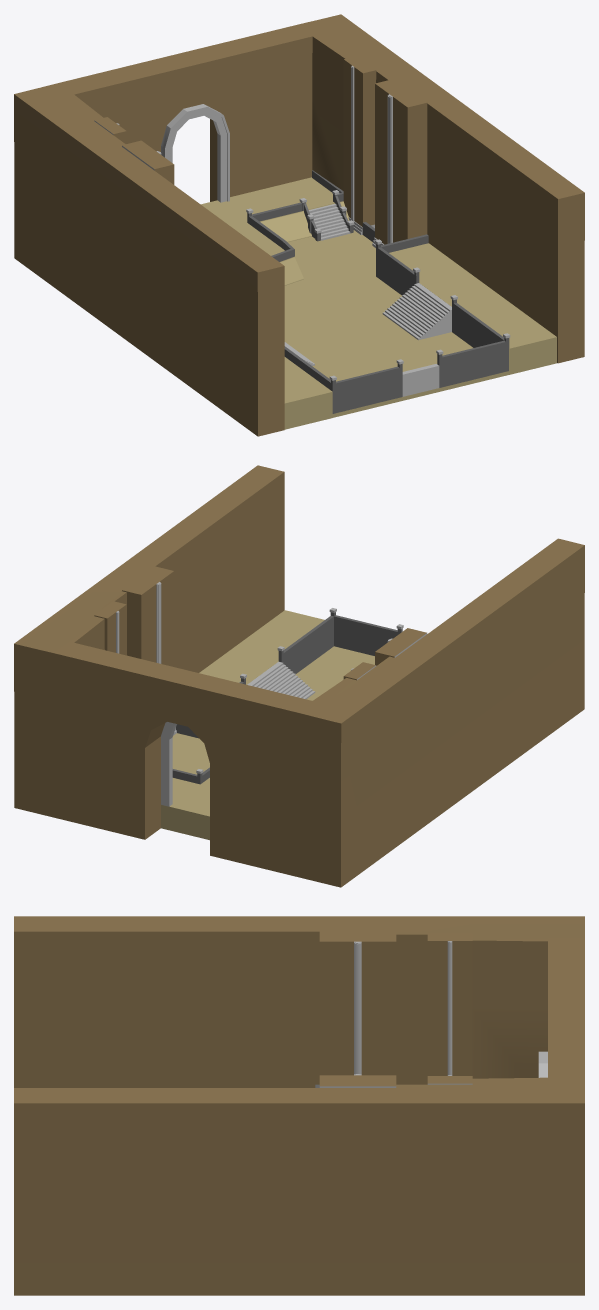
Rendered from arene.fbx.
3 views of the same model, one above another, from view 1: azimuth 30°, elevation 25°; view 2: azimuth 150°, elevation 25°; view 3: azimuth 270°, elevation 25° (orthographic). The views are drawn at different scales.
Visible parts, largest first — view 1: pCylinder2, pCube1, pCube125, pCube80, pCube126, polySurface2, polySurface1, pCube79, pCylinder1, polySurface4, polySurface5, pCube124; view 2: pCylinder2, pCube1, pCube125, pCube80, polySurface2, pCube126, pCylinder1, pCube124; view 3: pCylinder2, pCube124, pCube127, pCube125.
Part boxes in pixels (bbox=[...]): pCylinder2: bbox=[14, 14, 584, 436]; pCube1: bbox=[201, 177, 508, 417]; pCube125: bbox=[372, 79, 427, 247]; pCube80: bbox=[389, 243, 556, 374]; pCube126: bbox=[343, 56, 376, 234]; polySurface2: bbox=[437, 302, 509, 387]; polySurface1: bbox=[284, 346, 402, 413]; pCube79: bbox=[284, 357, 332, 429]; pCylinder1: bbox=[161, 104, 229, 202]; polySurface4: bbox=[376, 234, 428, 295]; polySurface5: bbox=[247, 202, 302, 261]; pCube124: bbox=[122, 140, 174, 184]; pCylinder2: bbox=[14, 465, 584, 887]; pCube1: bbox=[161, 646, 374, 840]; pCube125: bbox=[122, 566, 176, 735]; pCube80: bbox=[199, 610, 324, 684]; polySurface2: bbox=[278, 615, 401, 673]; pCube126: bbox=[94, 601, 126, 655]; pCylinder1: bbox=[161, 722, 176, 806]; pCube124: bbox=[375, 628, 427, 665]; pCylinder2: bbox=[14, 916, 584, 1295]; pCube124: bbox=[319, 930, 396, 1075]; pCube127: bbox=[427, 933, 472, 1075]; pCube125: bbox=[319, 1074, 396, 1087].
Size of the model in its own units: 1072 by 518 by 1384.
